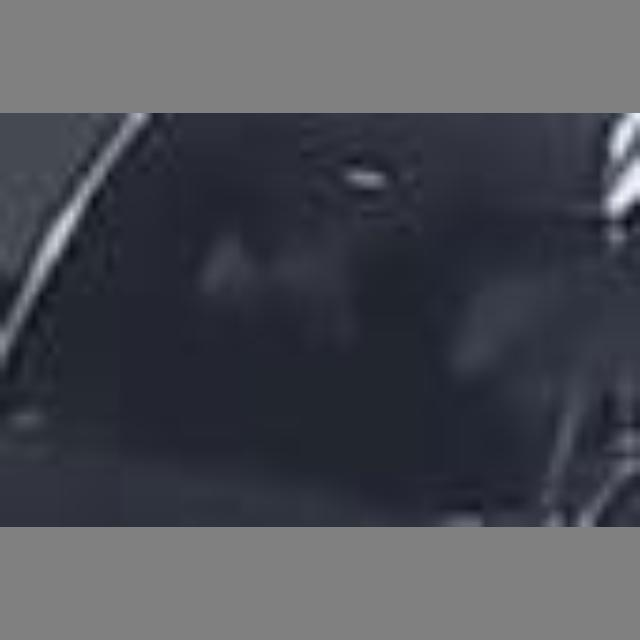pakai: (452, 256, 617, 444), (181, 218, 361, 361)
